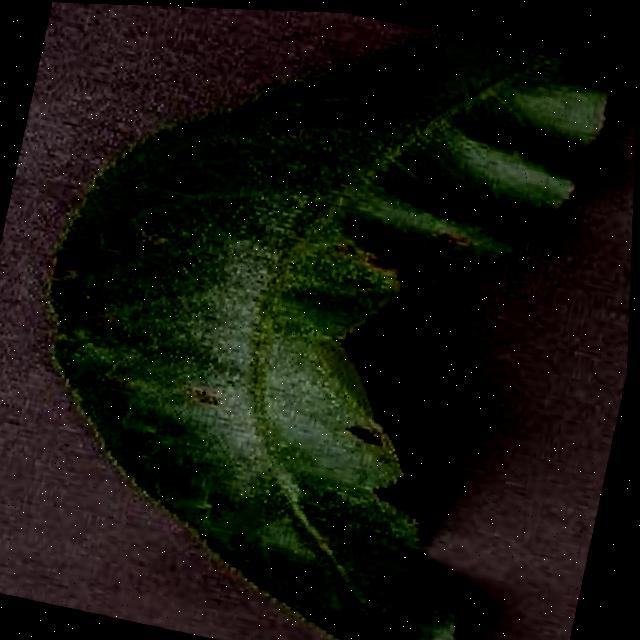Bacterial_spot: (32, 249, 153, 362), (103, 390, 225, 491), (214, 101, 331, 178), (319, 226, 415, 296), (170, 362, 248, 420)
